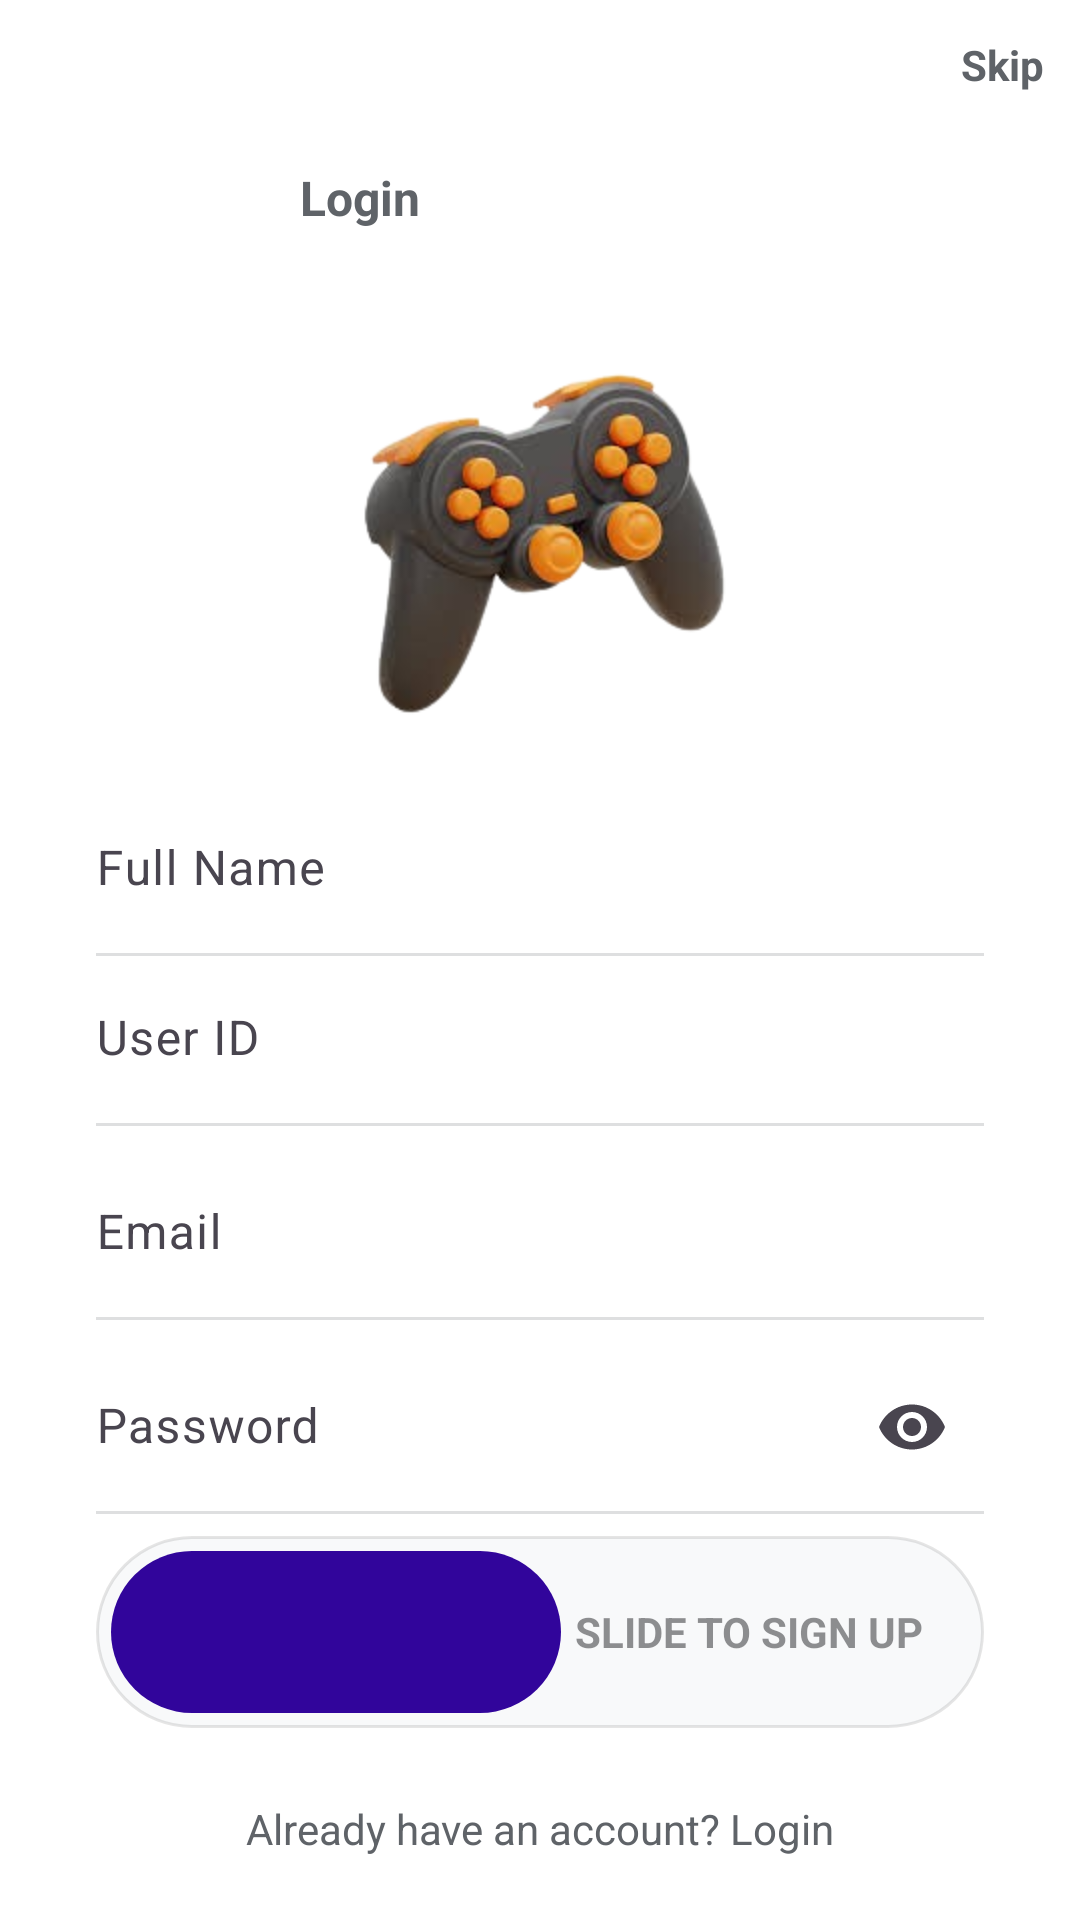

Named icons in this screenshot (1080px x 1920px) and their bounding boxes, (x1, y1, x2, y2):
console: (364, 374, 724, 713)
